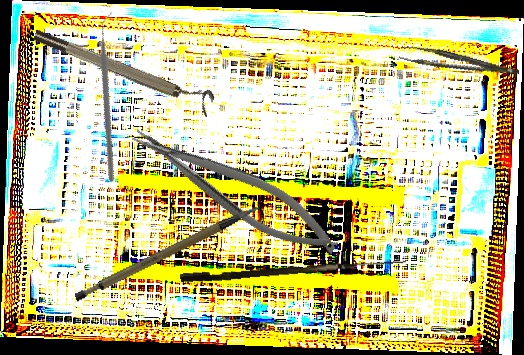Chopper: (30, 11, 193, 183)
Fixation Ring: (31, 18, 217, 118)
Hook Surgical: (179, 250, 407, 287)
Needle Holder: (125, 107, 347, 272)
Scalpel Handle: (66, 205, 269, 305)
Tissue Forceps: (398, 38, 520, 90)
